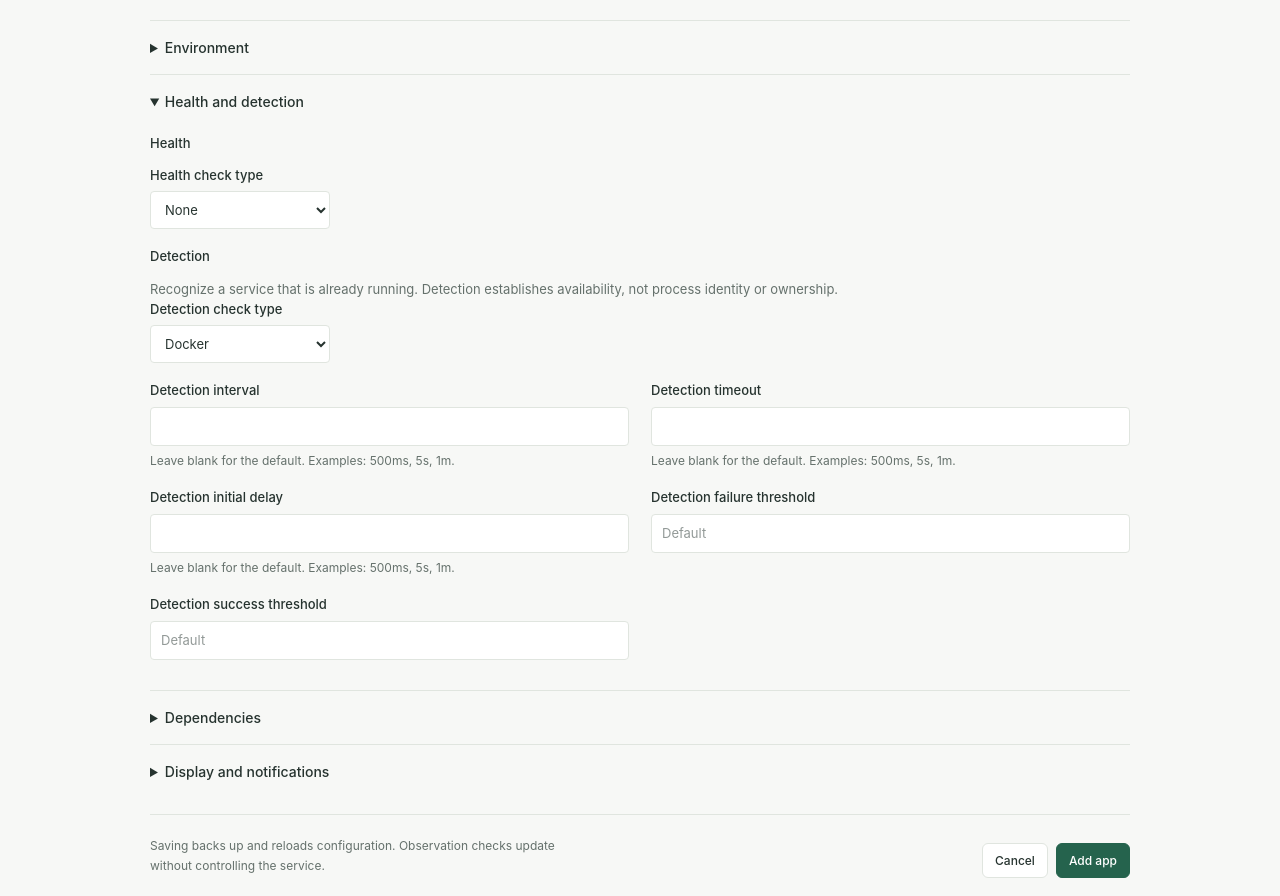
it: autofills a running Compose project without confusing its name with a new app ID
The image size is (1280, 896).
(page scrolled)
Click the button "Add app" at coordinates (1093, 861), box [1056, 843, 1130, 878]
(page scrolled)
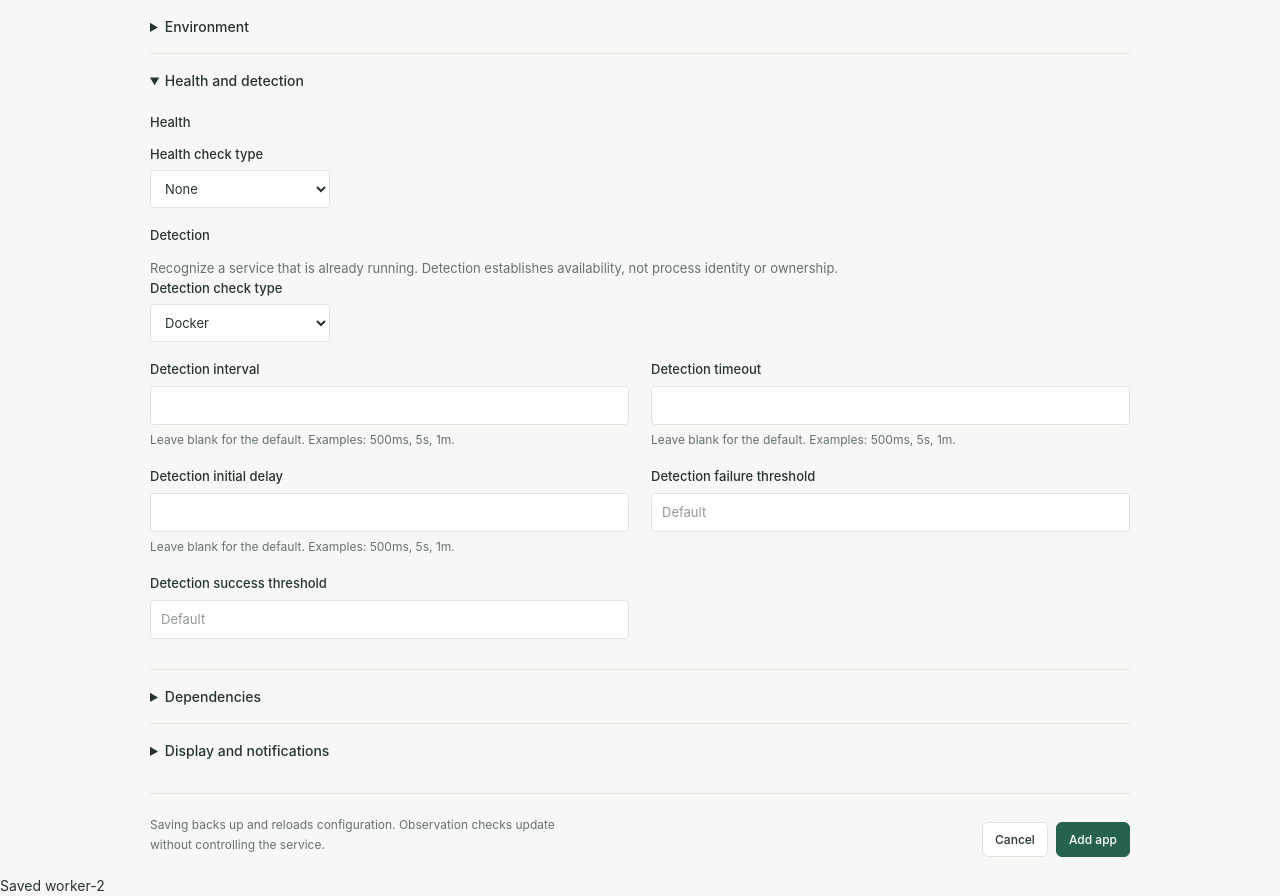
Check: the text "Saved worker-2" is shown, box [0, 877, 105, 894]
